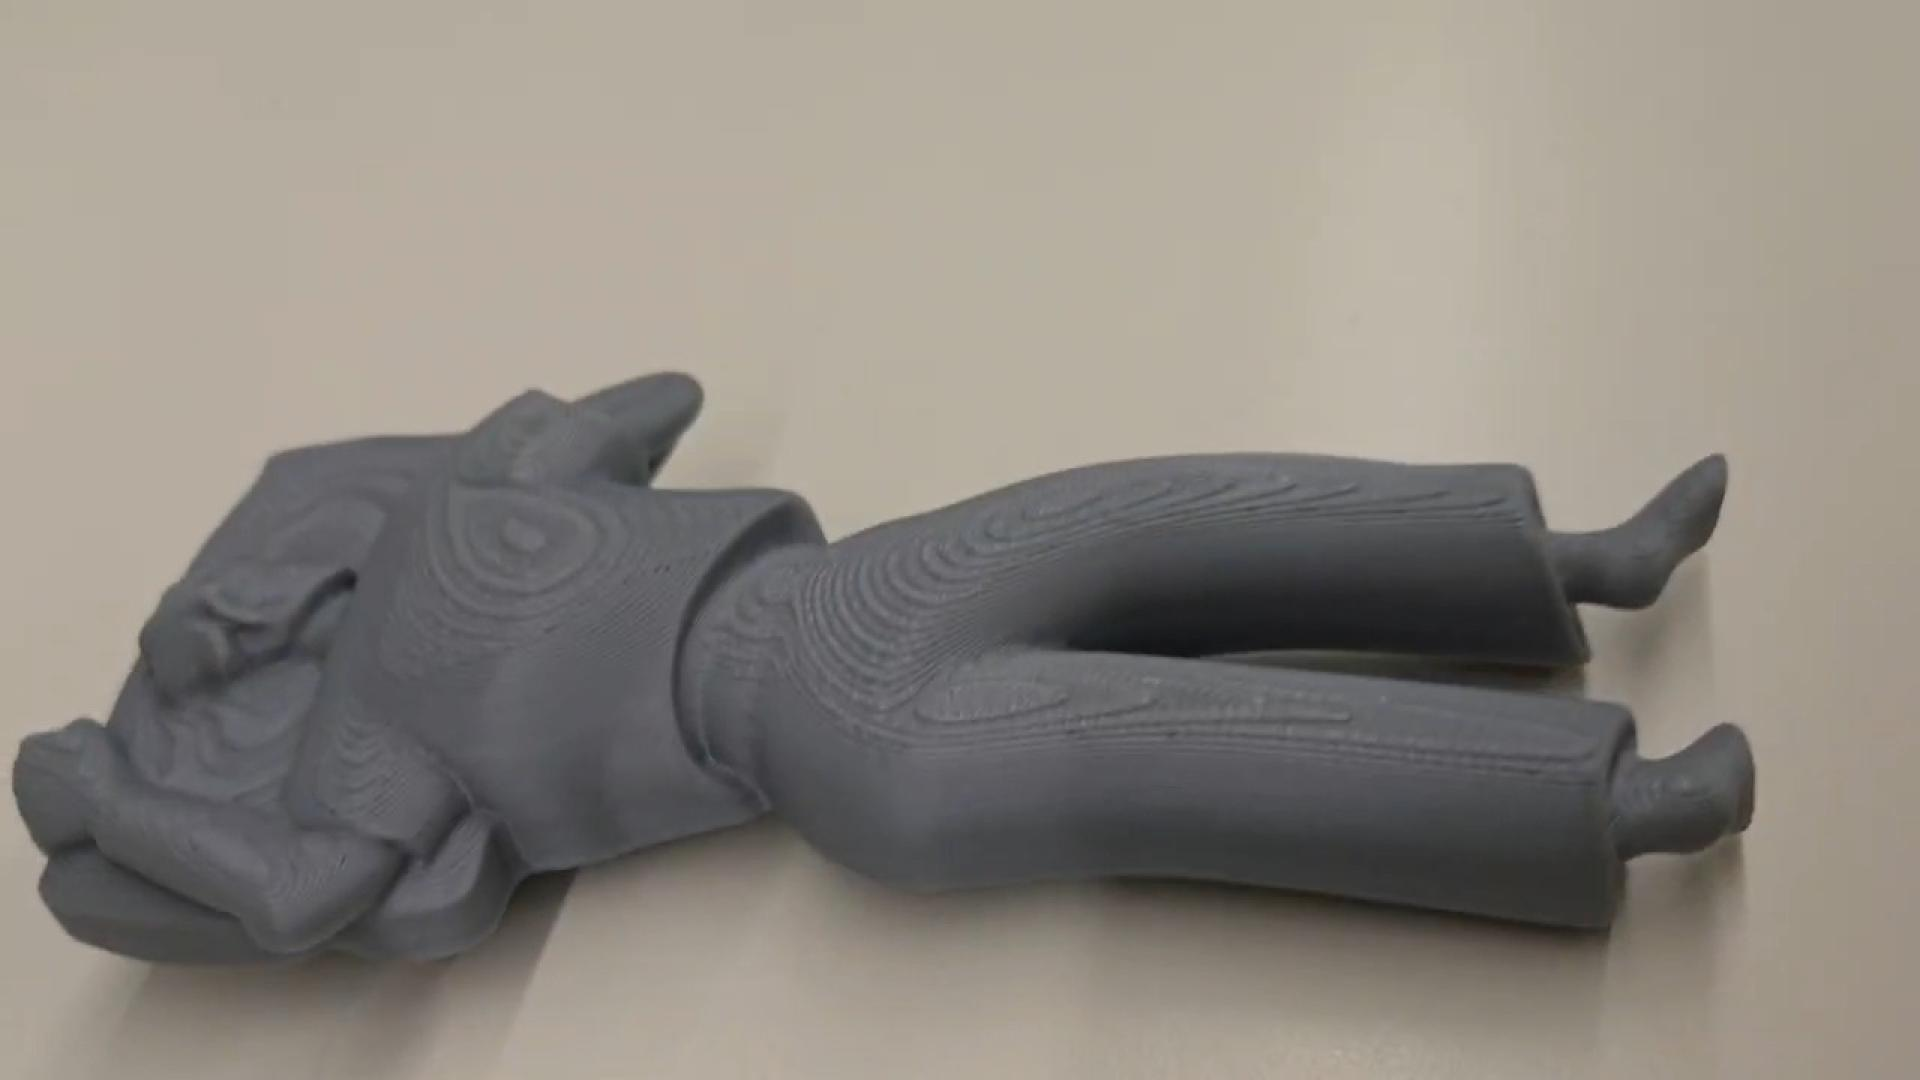Bad-style: (3, 363, 1770, 989)
